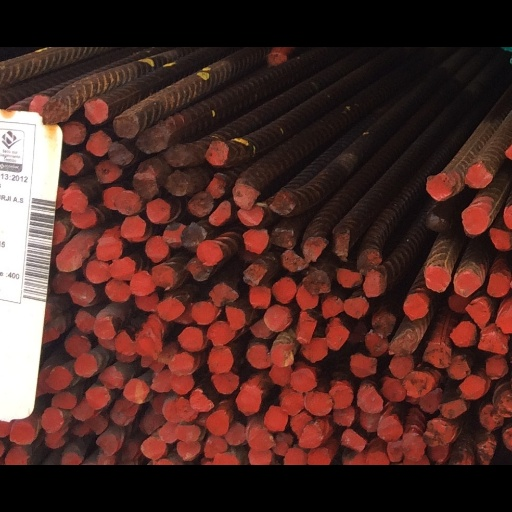dipstick: (478, 342, 509, 377), (357, 413, 382, 448), (336, 268, 363, 299), (426, 457, 453, 488), (137, 100, 166, 127), (305, 421, 332, 450), (177, 343, 203, 373), (461, 199, 485, 231), (182, 216, 205, 249), (426, 268, 449, 301), (208, 290, 236, 317), (351, 376, 377, 405), (83, 64, 108, 94), (95, 136, 120, 166), (303, 357, 328, 387), (451, 336, 476, 366), (188, 177, 212, 208), (208, 367, 232, 398), (382, 405, 405, 437), (405, 401, 432, 428), (426, 157, 451, 186), (263, 317, 287, 347), (402, 303, 426, 333), (238, 415, 259, 449), (247, 362, 270, 393), (105, 285, 131, 312), (296, 322, 314, 361), (231, 168, 256, 196), (144, 186, 168, 215), (86, 261, 110, 290), (438, 431, 467, 455), (108, 115, 131, 145), (291, 393, 314, 423), (467, 312, 489, 343), (481, 438, 503, 469), (112, 84, 138, 110), (43, 66, 67, 94), (197, 238, 221, 266), (273, 283, 297, 311), (124, 407, 148, 435), (205, 116, 228, 145), (282, 248, 305, 277), (494, 415, 511, 454), (86, 103, 108, 133), (166, 152, 188, 182), (134, 152, 156, 182), (244, 222, 266, 252), (456, 274, 478, 304), (111, 256, 132, 287), (206, 445, 227, 476), (266, 440, 287, 471), (70, 289, 95, 315), (129, 277, 154, 303), (304, 275, 329, 301), (459, 404, 485, 429), (61, 92, 85, 119), (333, 226, 351, 262), (223, 317, 247, 344), (208, 337, 232, 364), (97, 233, 120, 261), (122, 206, 145, 234), (75, 376, 98, 404), (426, 363, 449, 391), (488, 220, 511, 248), (270, 177, 292, 206), (10, 459, 32, 488), (270, 362, 292, 391), (301, 463, 323, 492), (485, 376, 507, 405), (74, 322, 95, 352), (176, 428, 197, 458), (469, 143, 490, 173), (402, 474, 423, 504), (56, 248, 81, 273), (66, 352, 91, 377), (169, 376, 194, 401), (188, 420, 213, 445), (141, 478, 166, 503), (247, 293, 271, 319), (145, 232, 168, 259), (211, 400, 238, 423), (447, 379, 470, 406), (61, 129, 83, 157), (117, 175, 139, 203), (379, 454, 401, 482), (152, 266, 172, 296), (69, 197, 95, 220), (190, 312, 213, 338), (99, 389, 122, 415), (53, 275, 75, 302), (344, 305, 366, 332), (165, 215, 184, 246), (489, 275, 508, 306), (102, 170, 122, 199), (142, 444, 162, 473), (248, 467, 272, 491), (321, 306, 344, 331), (158, 308, 181, 333), (48, 392, 71, 417), (150, 398, 172, 424), (245, 264, 266, 291), (290, 448, 311, 475), (429, 199, 450, 226), (364, 273, 381, 306), (366, 348, 386, 376), (164, 120, 188, 143), (85, 417, 108, 441), (109, 440, 132, 464), (342, 470, 365, 494), (210, 188, 229, 217), (331, 414, 350, 443), (188, 262, 210, 287), (136, 352, 157, 378), (270, 389, 291, 415), (305, 232, 322, 264), (298, 292, 318, 319), (497, 316, 512, 352), (360, 448, 380, 475), (117, 428, 141, 450), (176, 482, 200, 504), (237, 196, 262, 217), (133, 301, 158, 322), (172, 401, 193, 426), (227, 461, 245, 490), (374, 324, 392, 353), (283, 422, 303, 448), (391, 378, 411, 404), (326, 340, 342, 372), (52, 422, 75, 444), (4, 490, 27, 512), (391, 355, 414, 377), (64, 175, 85, 199), (272, 222, 293, 246), (359, 247, 377, 275), (449, 301, 469, 326), (208, 155, 224, 186), (43, 442, 61, 469), (114, 350, 135, 373), (95, 333, 116, 356), (250, 334, 271, 357), (274, 471, 290, 501), (29, 59, 48, 84), (475, 483, 493, 509), (308, 490, 329, 512), (451, 490, 472, 512), (70, 435, 93, 455), (332, 443, 355, 463), (284, 492, 308, 511), (423, 419, 439, 447), (205, 479, 225, 501), (96, 475, 119, 494), (249, 490, 272, 509), (349, 335, 365, 362), (160, 461, 178, 485), (159, 364, 176, 389), (178, 462, 199, 482), (366, 492, 387, 512), (148, 426, 167, 448), (85, 454, 107, 473), (51, 214, 66, 240), (388, 480, 403, 506), (176, 319, 195, 339), (43, 470, 62, 490), (428, 489, 447, 509), (113, 372, 138, 387), (141, 379, 163, 396), (163, 433, 176, 459), (70, 457, 87, 476), (60, 495, 79, 512), (344, 496, 364, 512), (123, 484, 139, 503), (98, 356, 116, 371), (95, 497, 113, 512), (503, 464, 512, 494), (504, 194, 512, 221)
